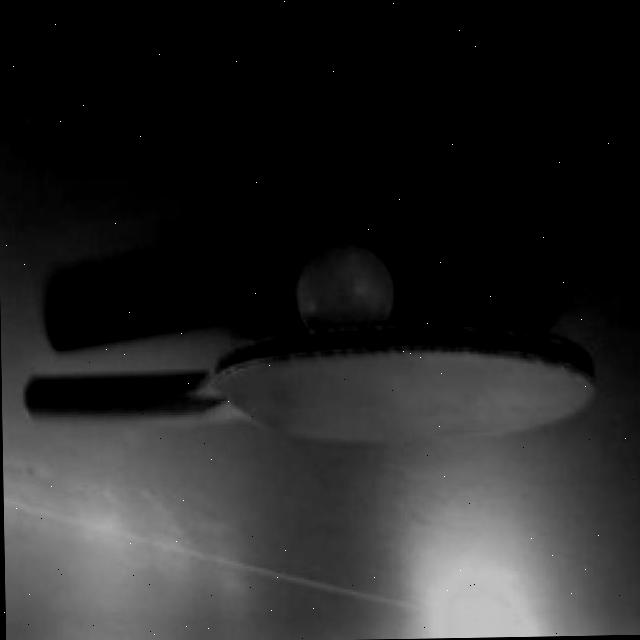ping-pong-ball: (294, 240, 398, 338)
